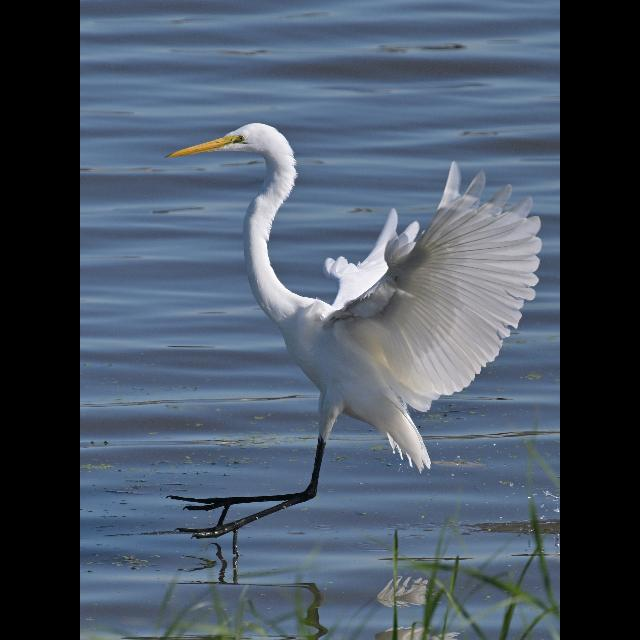egret: (161, 121, 537, 521)
